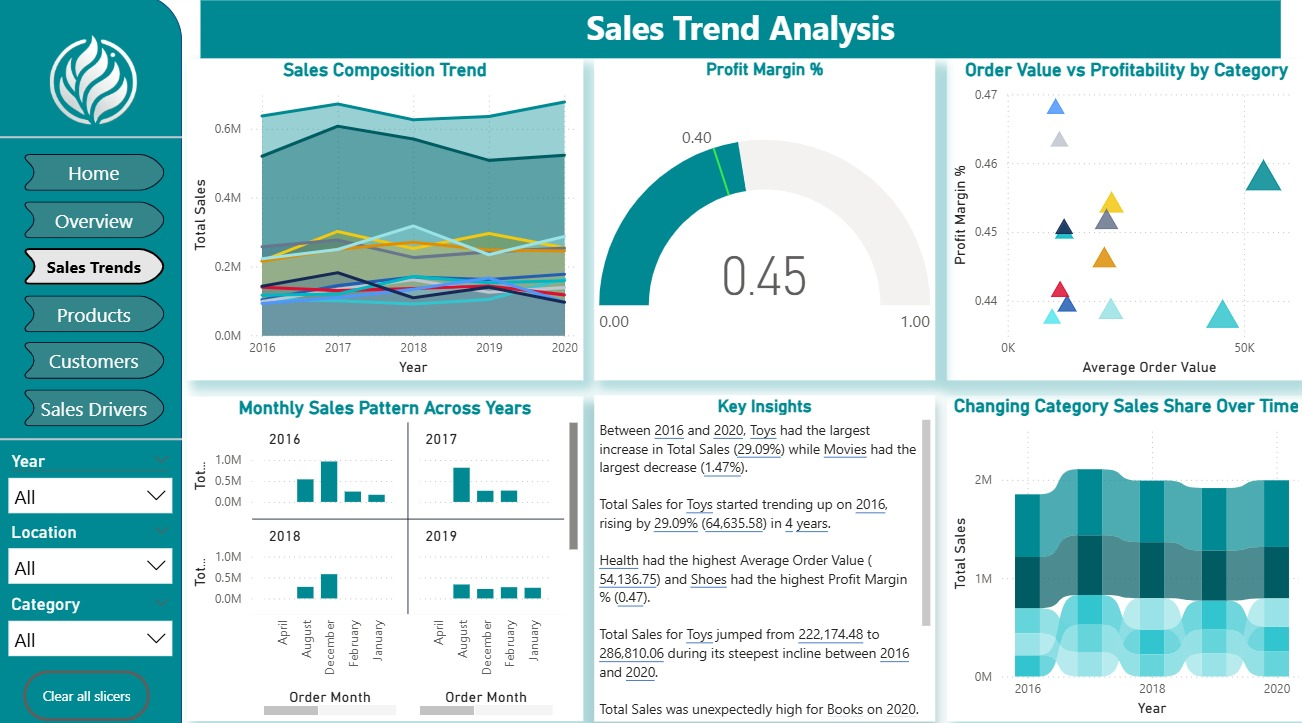

The dashboard page shown, as its layout file describes it:
{"tool":"powerbi","page":{"name":"Sales Trends","canvas":[1280,720],"ordinal":2},"visuals":[{"type":"shape","box":[0,0,180,720],"z":0},{"type":"actionButton","box":[725.7,312.4,304,63.8],"z":1000},{"type":"textbox","box":[197.6,5.9,1056.6,57.1],"z":2000},{"type":"ribbonChart","title":"Changing Category Sales Share Over Time","fields":{"Series":["DimProduct.Product Category"],"Y":["FactSales.Total Sales"],"Category":["DimDate.Order Date.Variation.Date Hierarchy.Year"]},"box":[927.8,401,352.7,310.2],"z":3000},{"type":"areaChart","title":"Sales Composition Trend","fields":{"Category":["DimDate.Order Date.Variation.Date Hierarchy.Year","DimDate.Order Date.Variation.Date Hierarchy.Month"],"Y":["FactSales.Total Sales"],"Series":["DimProduct.Product Category"]},"box":[184.4,60,387.8,317.6],"z":4000},{"type":"columnChart","title":"Monthly Sales Pattern Across Years","fields":{"Category":["DimDate.Order Month"],"Y":["FactSales.Total Sales"],"Rows":["DimDate.Order Year"]},"box":[184.4,393.7,387.8,317.6],"z":5000},{"type":"scatterChart","title":"Order Value vs Profitability by Category","fields":{"X":["FactSales.Average Order Value"],"Y":["FactSales.Profit Margin %"],"Series":["DimProduct.Product Category"],"Size":["FactSales.Total Orders"]},"box":[927.8,60,352.7,317.6],"z":6000},{"type":"pageNavigator","box":[20.5,156.6,146.3,267.8],"z":7000},{"type":"shape","box":[0,427.3,180,17.6],"z":8000},{"type":"shape","box":[0,128.8,180,23.4],"z":9000},{"type":"slicer","fields":{"Values":["E-Commerce Dataset.Order Year"]},"box":[0,442,180,71.7],"z":10000},{"type":"slicer","fields":{"Values":["FactSales.Country"]},"box":[0,510.7,180,80.5],"z":11000},{"type":"slicer","fields":{"Values":["E-Commerce Dataset.Product Category"]},"box":[0,582.4,180,80.5],"z":12000},{"type":"image","box":[42.4,33.7,102.4,99.5],"z":13000},{"type":"actionButton","box":[24.9,661.5,124.4,49.8],"z":14000},{"type":"gauge","title":"Actual sales vs target","fields":{"Y":["FactSales.Profit Margin %"]},"box":[583.9,62.9,333.7,314.6],"z":15000},{"type":"textbox","box":[583.9,392.2,333.7,319],"z":16000}]}

Visuals, with their boxes in screenshot pixels (x1, y1, x2, y2), scaled from the page's 1280x720 canvas onto the 1302x723 screenshot:
shape: [left=0, top=0, right=183, bottom=722]
actionButton: [left=738, top=314, right=1047, bottom=378]
textbox: [left=201, top=6, right=1276, bottom=63]
"Changing Category Sales Share Over Time" ribbonChart: [left=944, top=403, right=1301, bottom=714]
"Sales Composition Trend" areaChart: [left=188, top=60, right=582, bottom=379]
"Monthly Sales Pattern Across Years" columnChart: [left=188, top=395, right=582, bottom=714]
"Order Value vs Profitability by Category" scatterChart: [left=944, top=60, right=1301, bottom=379]
pageNavigator: [left=21, top=157, right=170, bottom=426]
shape: [left=0, top=429, right=183, bottom=447]
shape: [left=0, top=129, right=183, bottom=153]
slicer - E-Commerce Dataset.Order Year: [left=0, top=444, right=183, bottom=516]
slicer - FactSales.Country: [left=0, top=513, right=183, bottom=594]
slicer - E-Commerce Dataset.Product Category: [left=0, top=585, right=183, bottom=666]
image: [left=43, top=34, right=147, bottom=134]
actionButton: [left=25, top=664, right=152, bottom=714]
"Actual sales vs target" gauge: [left=594, top=63, right=933, bottom=379]
textbox: [left=594, top=394, right=933, bottom=714]
